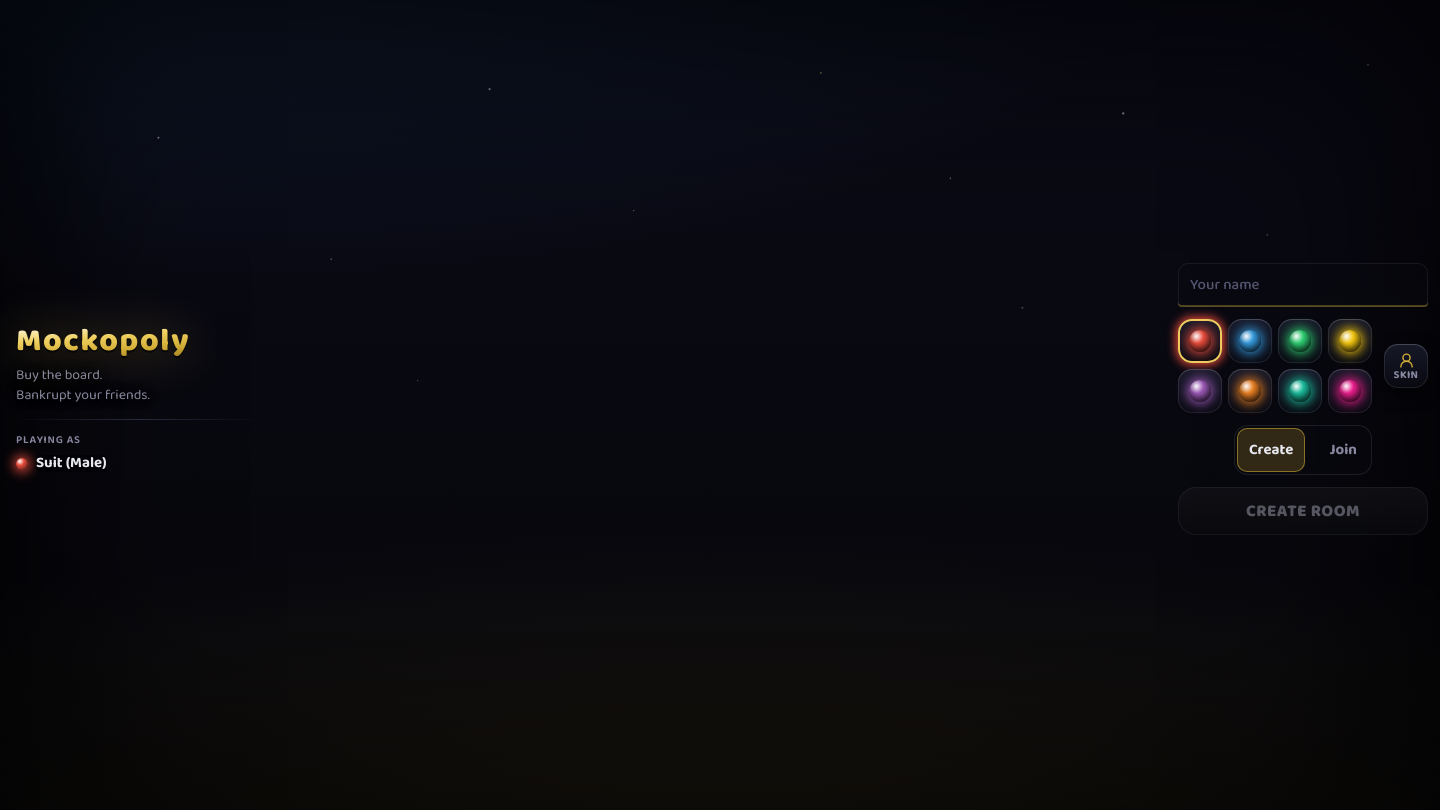
Scenario: MainMenu › disables CREATE until a name is entered
Check: the button "Create room" is disabled, box [1178,487,1428,535]
In the field with placeholder "Your name": (1303, 285) [1178,263,1428,307], type "Maya"
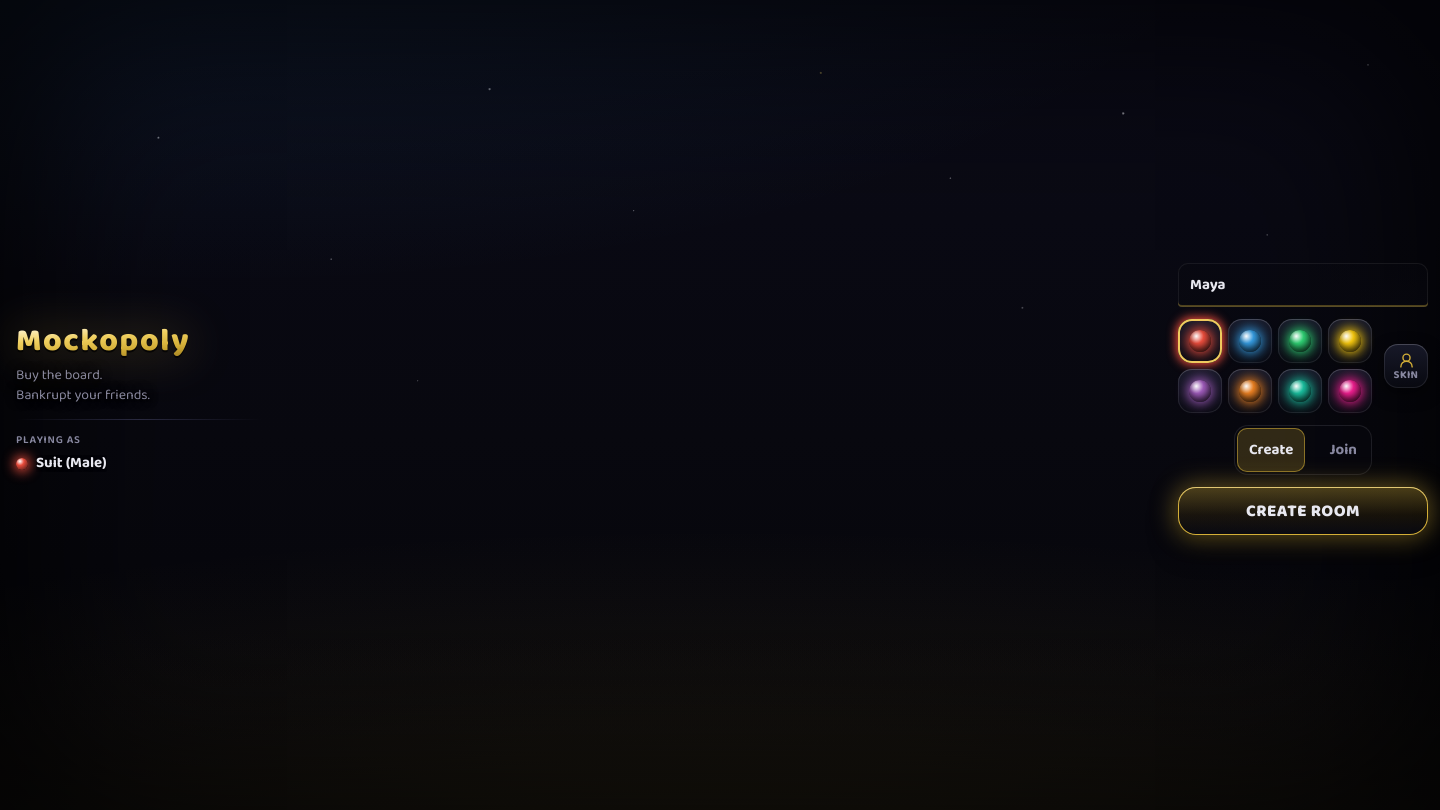
Check: the button "Create room" is enabled, box [1178,487,1428,535]
